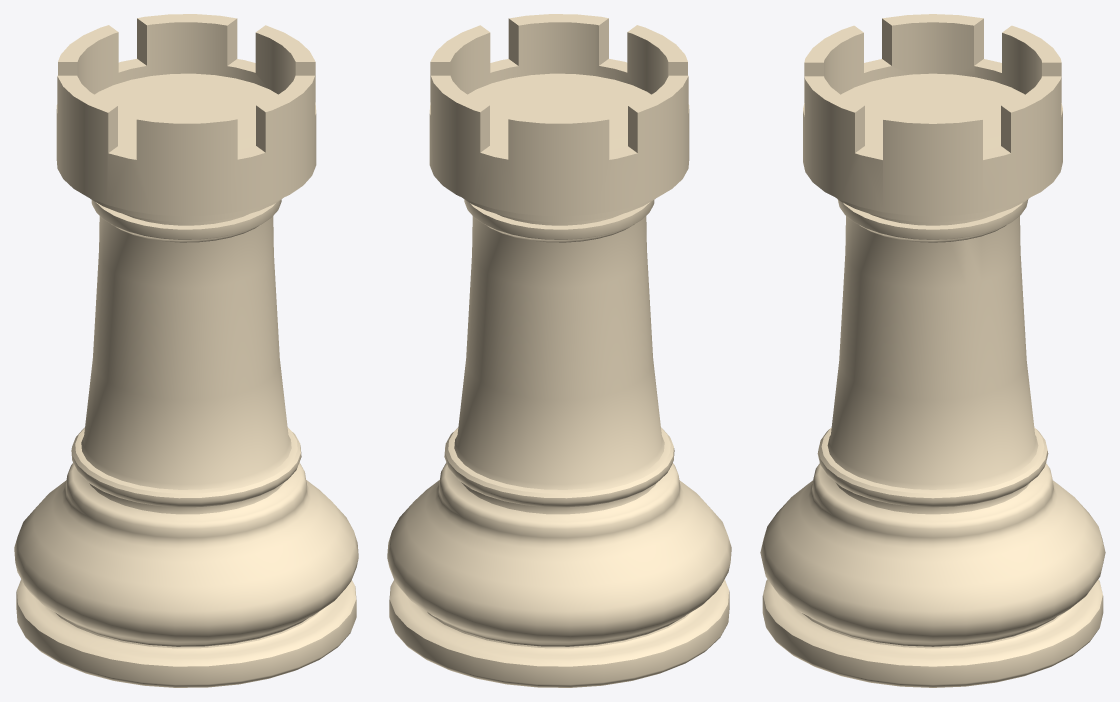
Rendered from Rook.fbx.
3 renders of one model, left to right at view 1: azimuth 30°, elevation 25°; view 2: azimuth 150°, elevation 25°; view 3: azimuth 270°, elevation 25°, orthographic.
Visible parts, largest first — view 1: Rook; view 2: Rook; view 3: Rook.
Boxes of the visible parts, x1,y1,x2,y2 form: Rook: (14, 14, 358, 687); Rook: (387, 14, 731, 687); Rook: (760, 14, 1105, 687).
Size of the model in its own units: 55.37 by 97.82 by 55.37.
